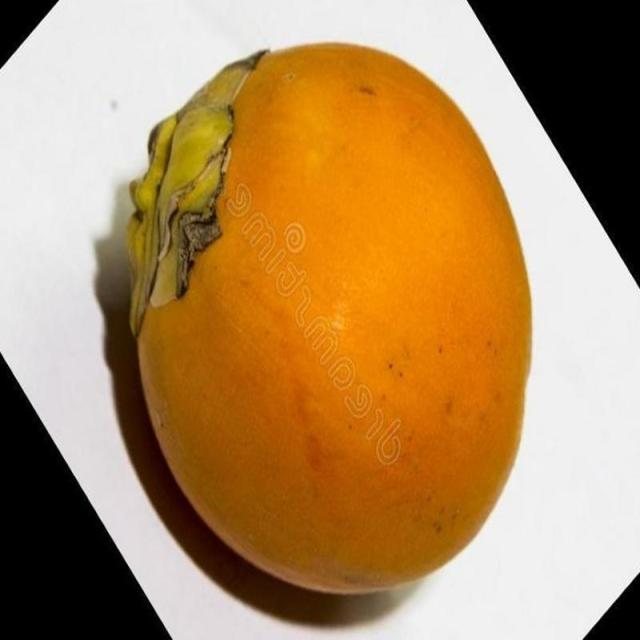good: (122, 42, 534, 601)
